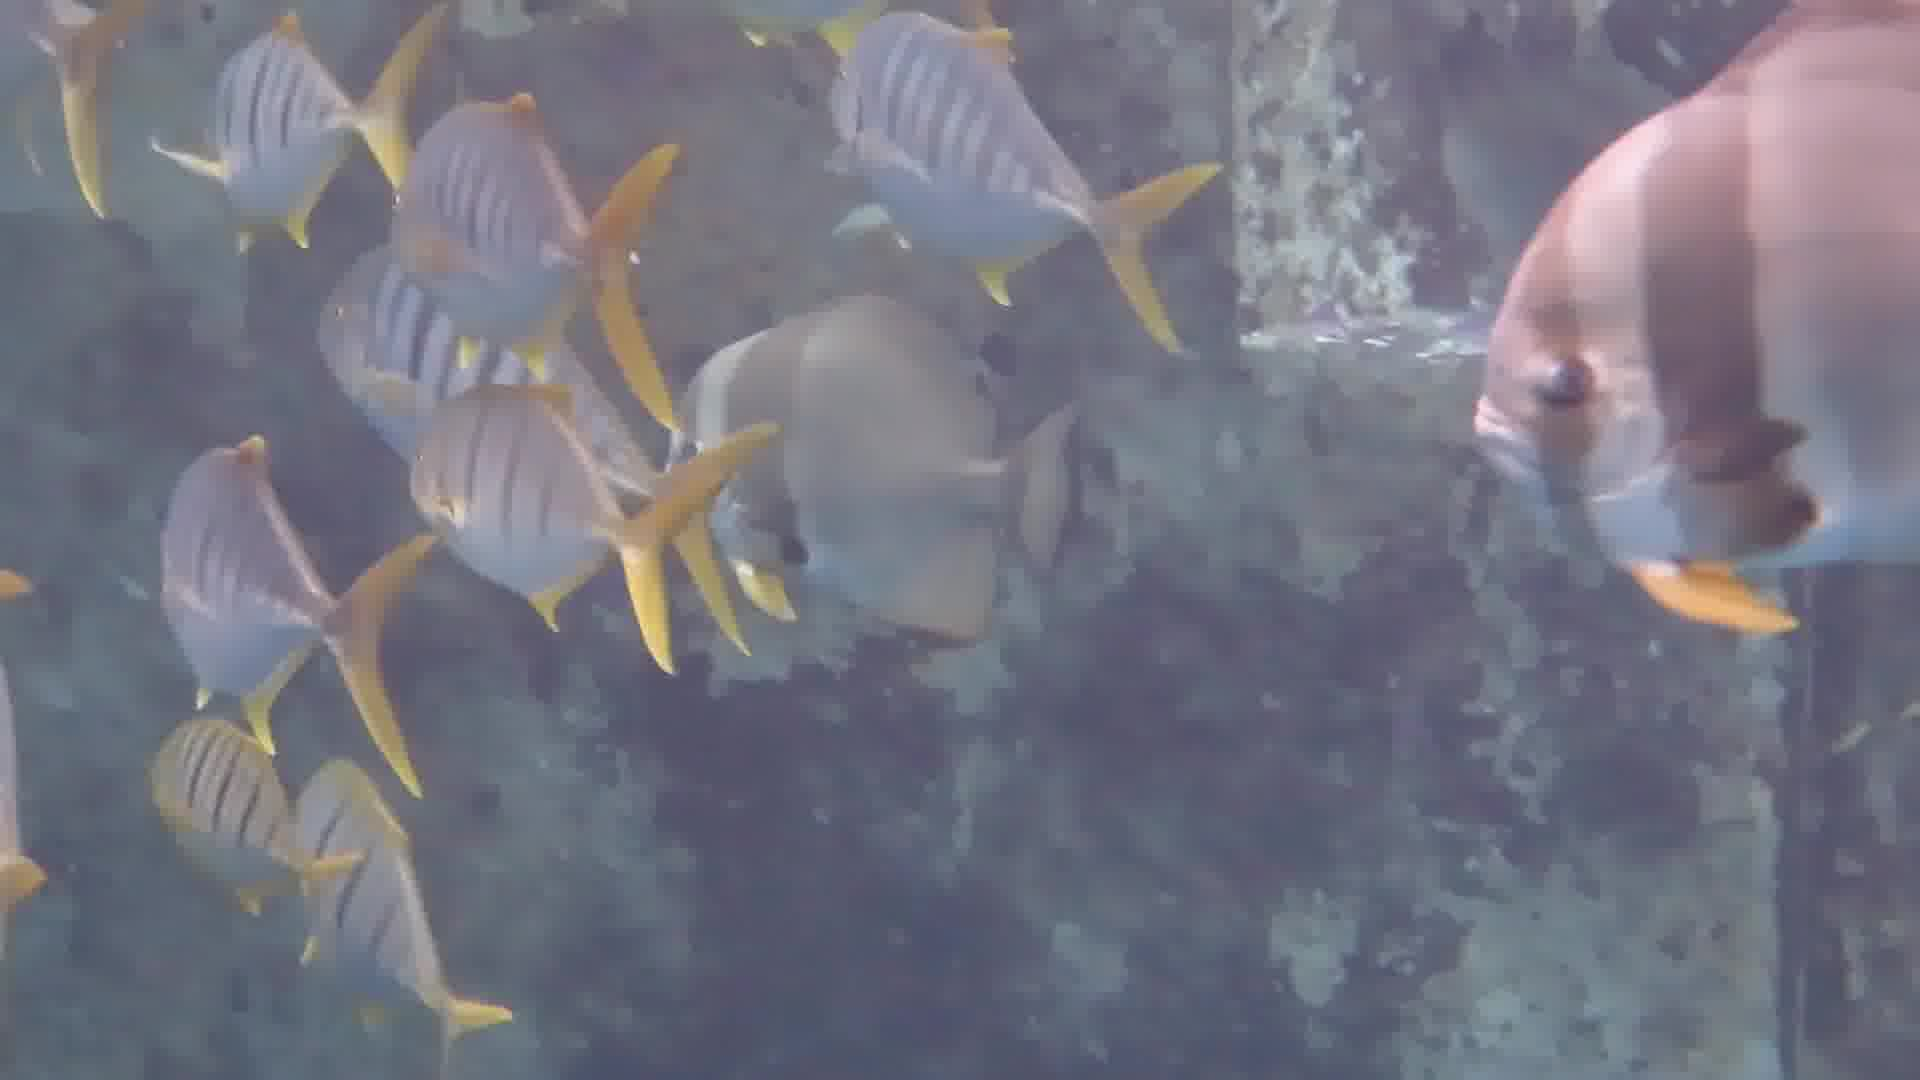Gnathanodon speciosus: (814, 25, 1149, 328), (402, 397, 666, 661), (128, 676, 334, 993), (376, 80, 607, 352)
